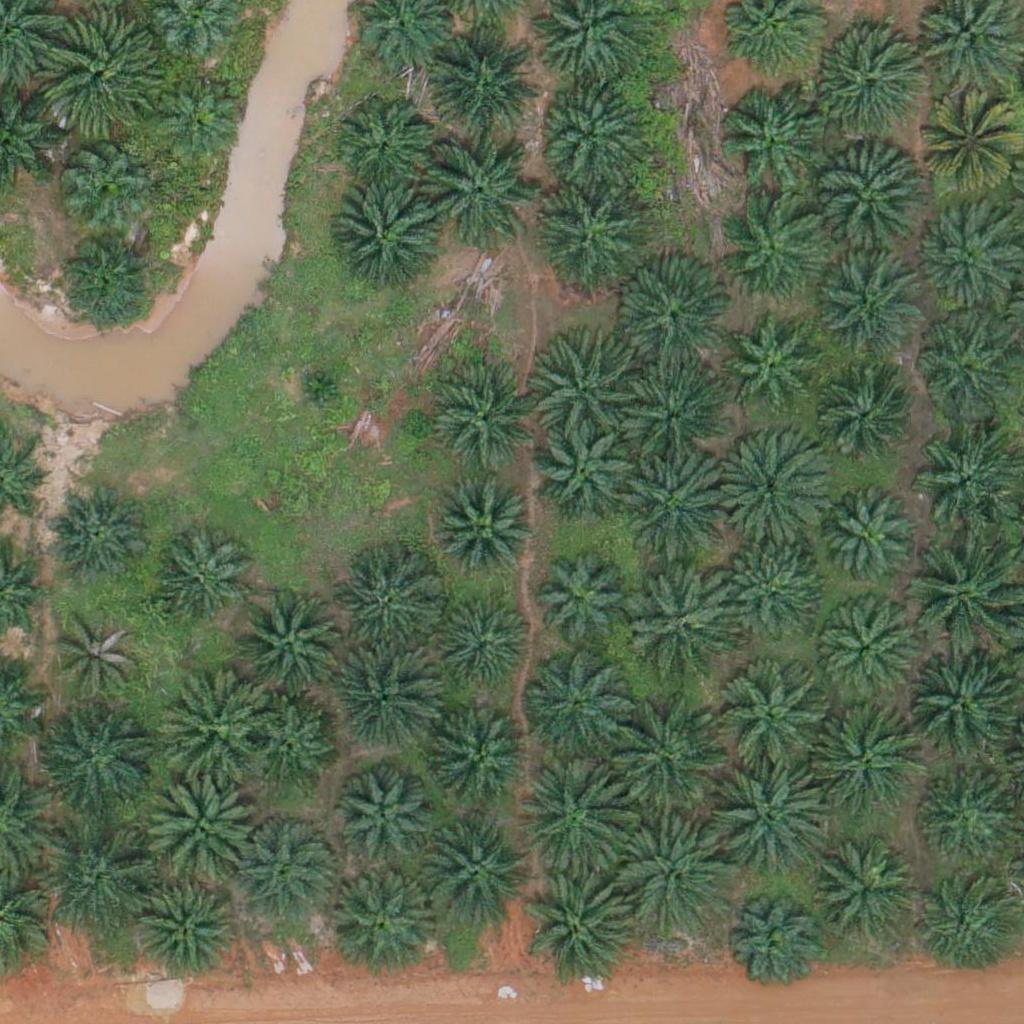Kelapa_Sawit: (906, 646, 1019, 760), (713, 430, 826, 544), (622, 446, 735, 560), (616, 823, 729, 937), (513, 763, 626, 877), (539, 73, 652, 187), (329, 864, 442, 978), (416, 816, 529, 930), (905, 540, 1018, 653), (814, 146, 927, 259), (808, 704, 921, 817), (716, 88, 829, 201), (718, 665, 831, 778), (627, 564, 740, 677), (327, 185, 440, 298), (328, 643, 441, 756), (44, 15, 157, 128), (719, 193, 831, 307), (520, 647, 632, 761), (427, 22, 539, 136), (911, 419, 1023, 532), (810, 841, 922, 954), (720, 762, 832, 875), (620, 268, 732, 381), (609, 697, 721, 810), (525, 874, 637, 987), (531, 176, 643, 289), (531, 324, 643, 437), (419, 133, 531, 246), (233, 587, 345, 700), (156, 670, 268, 783), (143, 768, 255, 881), (45, 823, 157, 936), (41, 702, 153, 815), (803, 28, 915, 141), (912, 205, 1012, 306), (914, 317, 1014, 418), (918, 770, 1018, 871), (915, 879, 1015, 980), (820, 262, 920, 363), (815, 602, 915, 703), (721, 317, 821, 418), (532, 552, 632, 653), (533, 422, 633, 523), (334, 95, 434, 196), (334, 773, 434, 874), (235, 817, 335, 918), (149, 528, 249, 629), (918, 99, 1018, 199), (812, 376, 912, 476), (723, 549, 823, 649), (623, 365, 723, 465), (434, 373, 534, 473), (435, 482, 535, 582), (435, 598, 535, 698), (431, 714, 531, 814), (337, 558, 437, 658), (134, 880, 234, 980), (55, 230, 155, 330), (46, 483, 146, 583), (825, 496, 913, 585), (245, 701, 333, 789), (59, 137, 147, 225), (156, 72, 244, 160), (728, 903, 815, 991), (55, 614, 142, 702), (292, 360, 342, 411)
